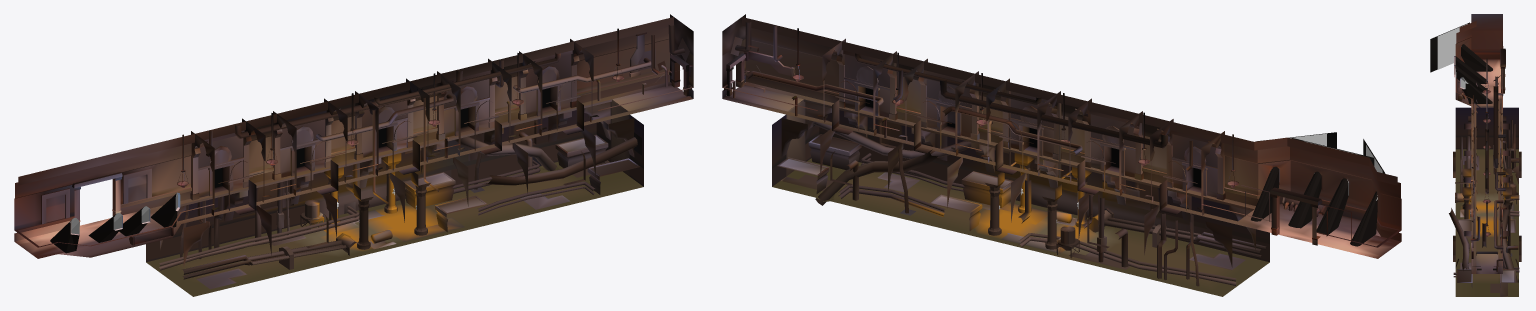
Rendered from 13Hall.gltf.
The picture shows the model from 3 angles, left to right: view 1: azimuth 30°, elevation 25°; view 2: azimuth 150°, elevation 25°; view 3: azimuth 270°, elevation 25°; orthographic projection. The views are drawn at different scales.
Visible parts, largest first — view 1: stg030_o17_Mesh_3, stg030_o17_Mesh_1, stg030_o17_Mesh_47, stg030_o17_Mesh_30, stg030_o17_Mesh_19, stg030_o17_Mesh_24, stg030_o17_Mesh_32, stg030_o17_Mesh_51, stg030_o17_Mesh_49, stg030_o17_Mesh_37, stg030_o17_Mesh_18, stg030_o17_Mesh_13 (+23 smaller); view 2: stg030_o17_Mesh_3, stg030_o17_Mesh_1, stg030_o17_Mesh_24, stg030_o17_Mesh_47, stg030_o17_Mesh_30, stg030_o17_Mesh_32, stg030_o17_Mesh_19, stg030_o17_Mesh_51, stg030_o17_Mesh_49, stg030_o17_Mesh_37, stg030_o17_Mesh_18, stg030_o17_Mesh_16 (+20 smaller); view 3: stg030_o17_Mesh_3, stg030_o17_Mesh_47, stg030_o17_Mesh_49, stg030_o17_Mesh_51, stg030_o17_Mesh_30, stg030_g17_Mesh_0, stg030_o17_Mesh_18, stg030_o17_Mesh_24, stg030_o17_Mesh_34, stg030_k17_Mesh_3, stg030_o17_Mesh_33, stg030_o17_Mesh_10 (+18 smaller).
Part boxes in pixels (left/top/right/bottom): stg030_o17_Mesh_3: left=133, top=25, right=684, bottom=265; stg030_o17_Mesh_1: left=15, top=14, right=693, bottom=249; stg030_o17_Mesh_47: left=15, top=82, right=692, bottom=258; stg030_o17_Mesh_30: left=75, top=62, right=691, bottom=291; stg030_o17_Mesh_19: left=14, top=34, right=693, bottom=283; stg030_o17_Mesh_24: left=14, top=39, right=693, bottom=230; stg030_o17_Mesh_32: left=198, top=54, right=583, bottom=204; stg030_o17_Mesh_51: left=150, top=165, right=639, bottom=294; stg030_o17_Mesh_49: left=18, top=85, right=689, bottom=296; stg030_o17_Mesh_37: left=74, top=49, right=688, bottom=262; stg030_o17_Mesh_18: left=176, top=110, right=643, bottom=232; stg030_o17_Mesh_13: left=46, top=54, right=692, bottom=262; stg030_o17_Mesh_3: left=729, top=21, right=1323, bottom=281; stg030_o17_Mesh_1: left=722, top=14, right=1400, bottom=249; stg030_o17_Mesh_24: left=722, top=39, right=1401, bottom=230; stg030_o17_Mesh_47: left=723, top=82, right=1400, bottom=258; stg030_o17_Mesh_30: left=727, top=62, right=1316, bottom=291; stg030_o17_Mesh_32: left=832, top=54, right=1217, bottom=204; stg030_o17_Mesh_19: left=722, top=34, right=1401, bottom=270; stg030_o17_Mesh_51: left=776, top=158, right=1265, bottom=294; stg030_o17_Mesh_49: left=726, top=85, right=1397, bottom=296; stg030_o17_Mesh_37: left=726, top=48, right=1320, bottom=262; stg030_o17_Mesh_18: left=772, top=110, right=1269, bottom=239; stg030_o17_Mesh_16: left=809, top=146, right=1236, bottom=285; stg030_o17_Mesh_3: left=1449, top=76, right=1519, bottom=282; stg030_o17_Mesh_47: left=1453, top=59, right=1521, bottom=273; stg030_o17_Mesh_49: left=1455, top=59, right=1518, bottom=296; stg030_o17_Mesh_51: left=1460, top=149, right=1514, bottom=296; stg030_o17_Mesh_30: left=1460, top=68, right=1514, bottom=296; stg030_g17_Mesh_0: left=1455, top=44, right=1492, bottom=103; stg030_o17_Mesh_18: left=1455, top=107, right=1518, bottom=134; stg030_o17_Mesh_24: left=1455, top=30, right=1502, bottom=61; stg030_o17_Mesh_34: left=1462, top=90, right=1511, bottom=290; stg030_k17_Mesh_3: left=1437, top=24, right=1467, bottom=69; stg030_o17_Mesh_33: left=1457, top=219, right=1515, bottom=282; stg030_o17_Mesh_10: left=1453, top=81, right=1518, bottom=277.
Size of the model in its own units: 161 by 35.2 by 28.81.
